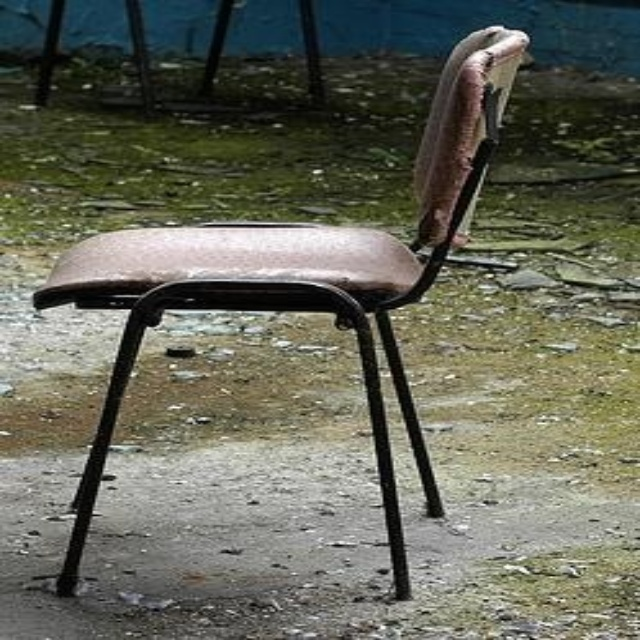obstacle: (33, 27, 527, 598)
